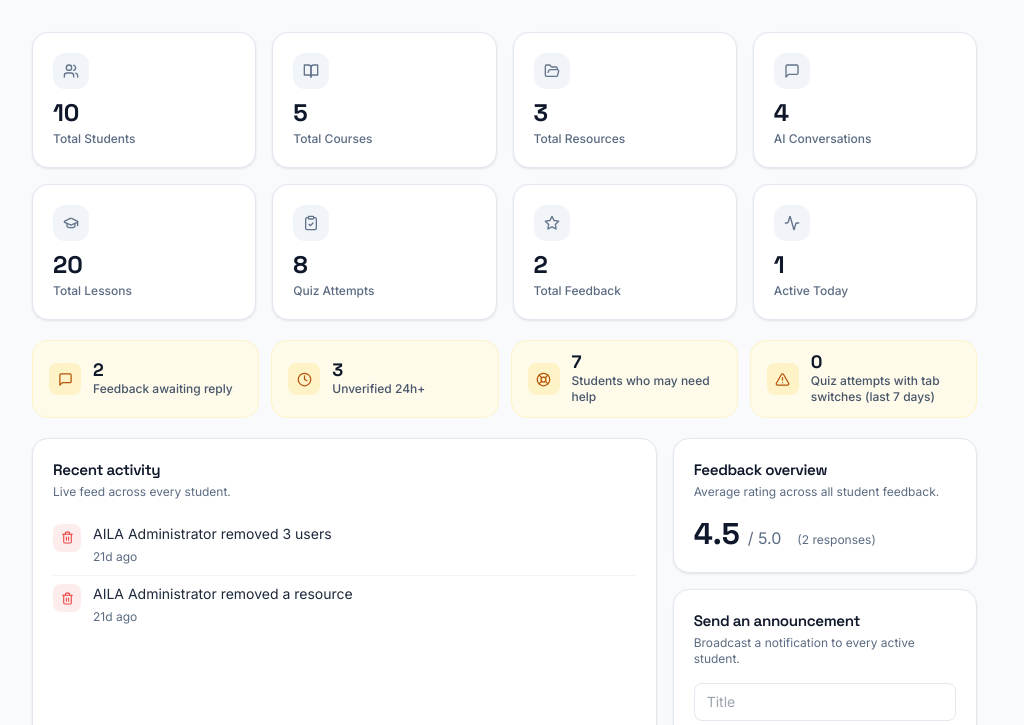
Test: AdminDashboardPage — quiz attempts with tab switches › can be closed again, and has an empty state
What coordinates should you click on to do the following:
click the button "0 Quiz attempts with tab switches (last 7 days)"
I would click on:
 (863, 379)
Its box is [750, 340, 977, 418].
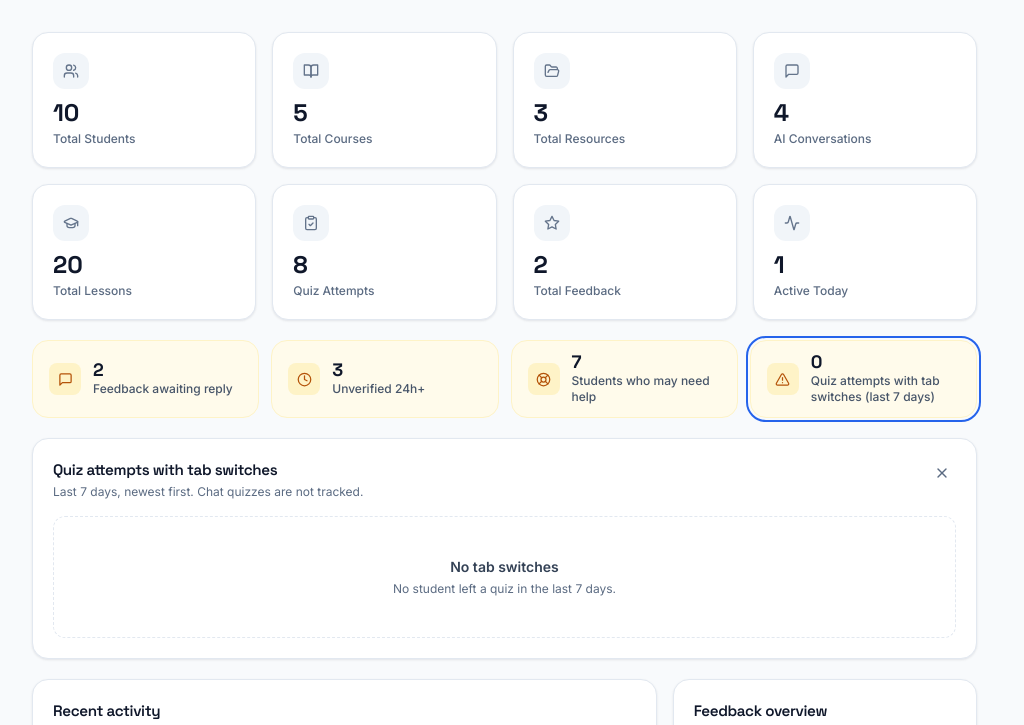
Expected: the text "No student left a quiz in the last 7 days." is shown, [393, 581, 616, 596]
What coordinates should you click on to do the following:
click the button named "Close list"
I would click on:
 (942, 473)
Its box is [928, 459, 956, 487].
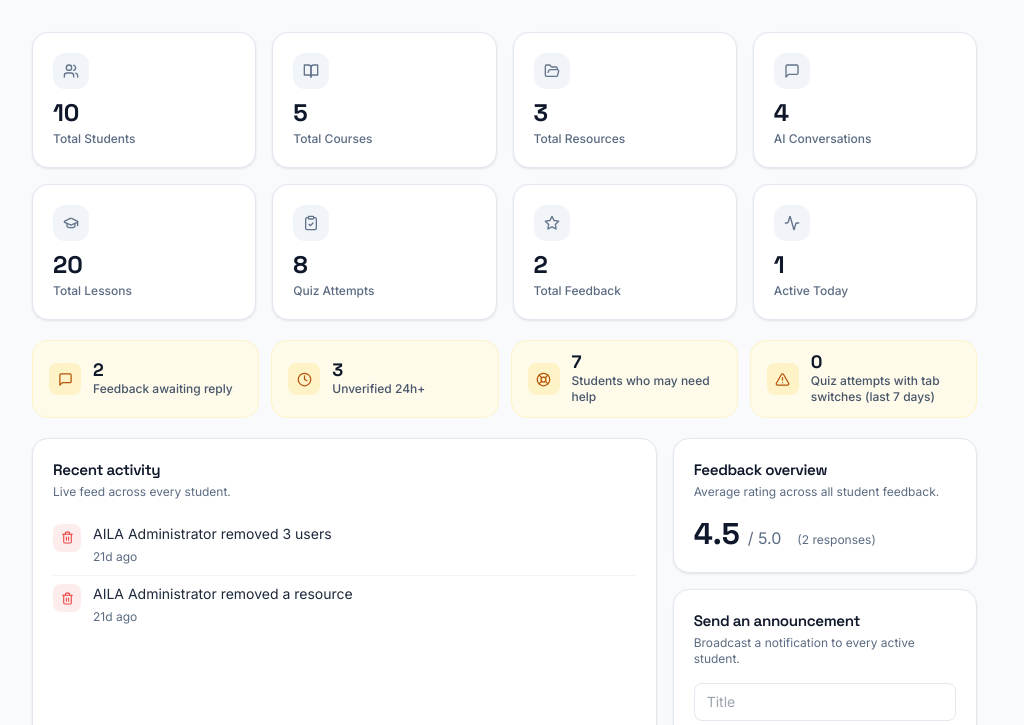
Expected: the text "No student left a quiz in the last 7 days." is gone
